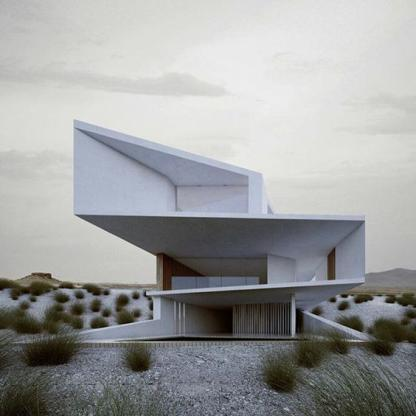Building Outline: (0, 117, 386, 348)
Facade: (72, 105, 367, 348)
Floor Slab: (164, 213, 260, 218), (165, 291, 267, 295)
Glass Wall: (165, 259, 266, 292), (176, 187, 249, 218)
